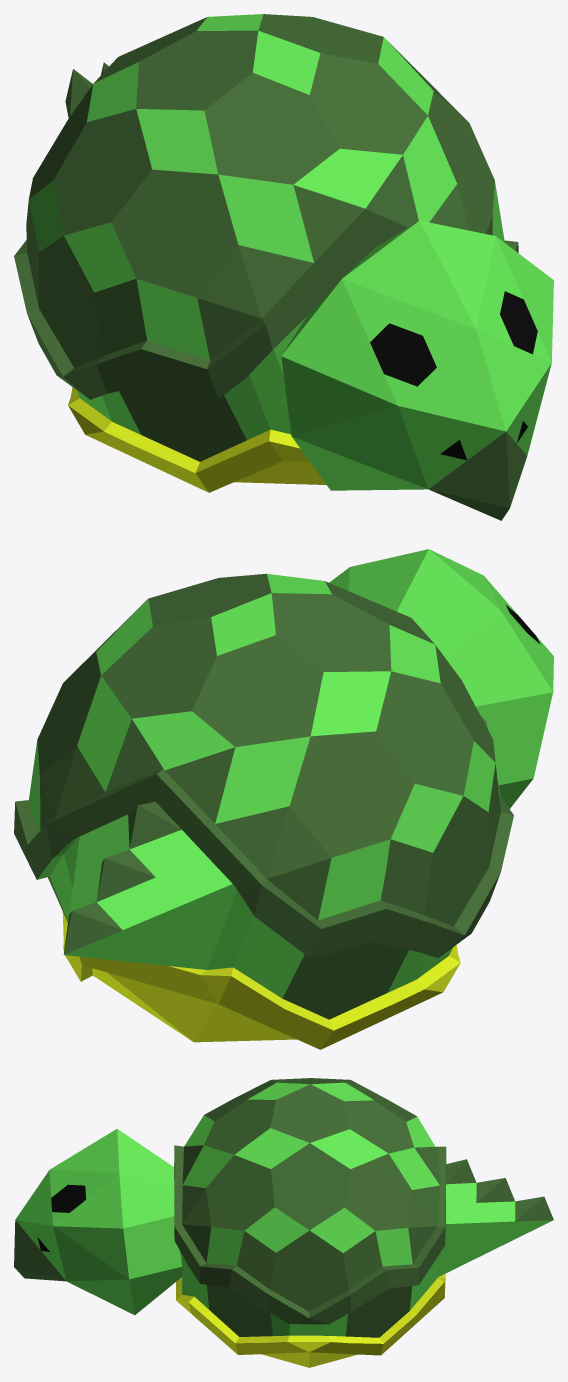
File: Turtle.glb
3 renders of one model, top to bottom at view 1: azimuth 30°, elevation 25°; view 2: azimuth 150°, elevation 25°; view 3: azimuth 270°, elevation 25°, orthographic. The views are drawn at different scales.
Parts seen in each view (by area): view 1: Turtle; view 2: Turtle; view 3: Turtle.
Part boxes in pixels (x1,y1,x2,y2): Turtle: [14, 14, 553, 520]; Turtle: [14, 549, 553, 1049]; Turtle: [14, 1078, 553, 1367].
Bounding box in the file's own units: 8.86 × 8.95 × 16.67.
